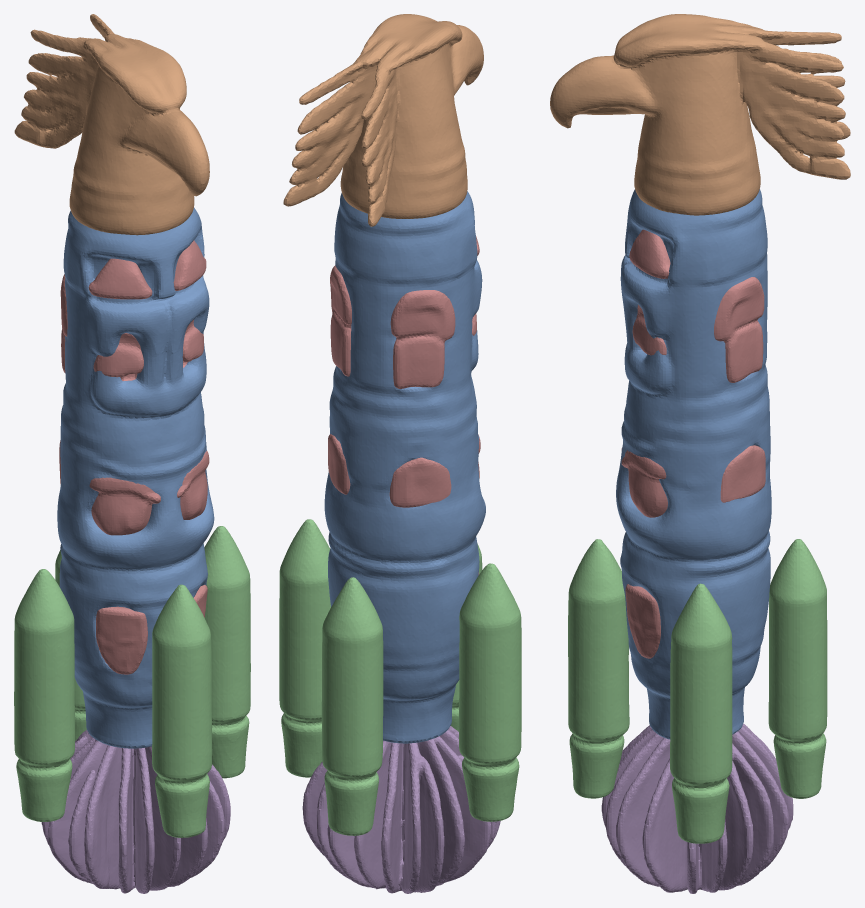
Rendered from totem_pole_rocket_1.glb.
3 renders of one model, left to right at view 1: azimuth 30°, elevation 25°; view 2: azimuth 150°, elevation 25°; view 3: azimuth 270°, elevation 25°, orthographic. The views are drawn at different scales.
Visible parts, largest first — view 1: Carved_Wood_Fuselage, Winged_Boosters, Eagle_Head_Cone, Flame_Exhaust, Painted_Spirit_Faces; view 2: Carved_Wood_Fuselage, Winged_Boosters, Eagle_Head_Cone, Flame_Exhaust, Painted_Spirit_Faces; view 3: Carved_Wood_Fuselage, Winged_Boosters, Eagle_Head_Cone, Flame_Exhaust, Painted_Spirit_Faces.
Part boxes in pixels (x1,y1,x2,y2): Carved_Wood_Fuselage: [57, 207, 214, 748]; Winged_Boosters: [14, 526, 250, 837]; Eagle_Head_Cone: [14, 14, 209, 235]; Flame_Exhaust: [41, 730, 230, 893]; Painted_Spirit_Faces: [59, 240, 209, 674]; Carved_Wood_Fuselage: [324, 191, 485, 743]; Winged_Boosters: [279, 519, 521, 835]; Eagle_Head_Cone: [283, 14, 483, 226]; Flame_Exhaust: [302, 726, 500, 893]; Painted_Spirit_Faces: [328, 236, 480, 574]; Carved_Wood_Fuselage: [616, 189, 771, 739]; Winged_Boosters: [568, 539, 827, 843]; Eagle_Head_Cone: [550, 14, 850, 215]; Flame_Exhaust: [601, 724, 793, 893]; Painted_Spirit_Faces: [621, 229, 765, 658].
Bounding box in the file's own units: 0.5503 × 1.92 × 0.6109.
